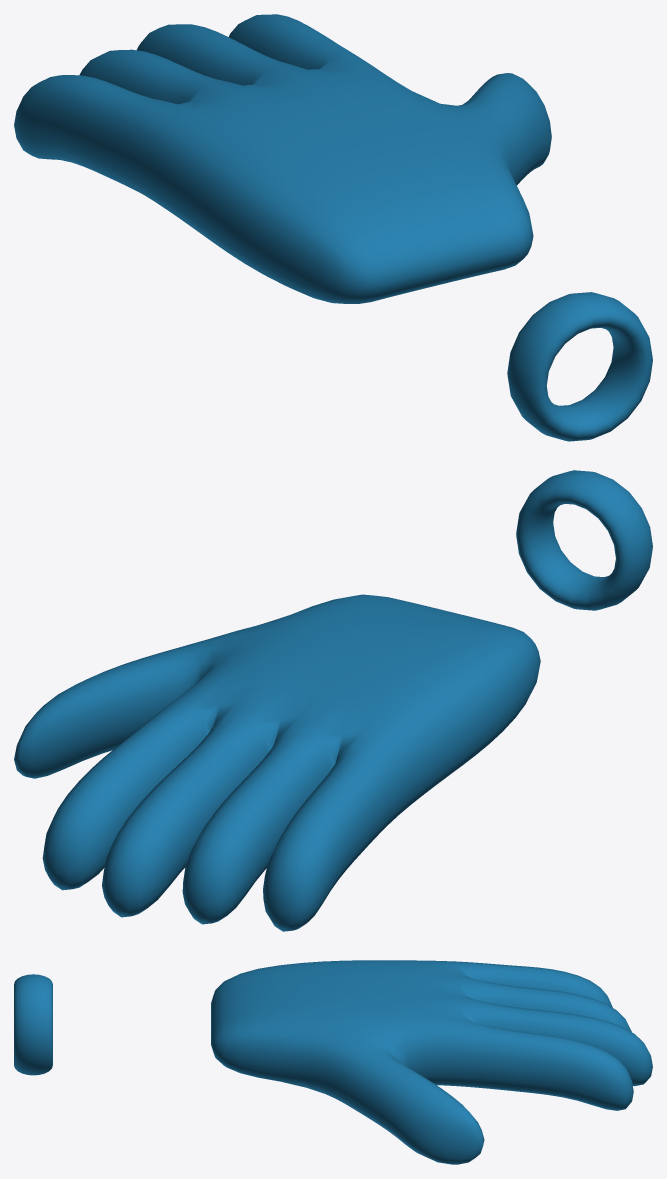
File: KR_Model_GrapplingHook_Vang.fbx
3 views of the same model, one above another, from view 1: azimuth 30°, elevation 25°; view 2: azimuth 150°, elevation 25°; view 3: azimuth 270°, elevation 25° (orthographic). The views are drawn at different scales.
Parts seen in each view (by area): view 1: pCube1, pTorus1; view 2: pCube1, pTorus1; view 3: pCube1, pTorus1.
Part boxes in pixels (x1,y1,x2,y2): pCube1: [14, 14, 551, 303]; pTorus1: [507, 292, 652, 441]; pCube1: [14, 594, 540, 931]; pTorus1: [516, 470, 652, 610]; pCube1: [211, 960, 652, 1164]; pTorus1: [14, 974, 52, 1075].
Bounding box in the file's own units: 7.77 × 2.73 × 15.64.
